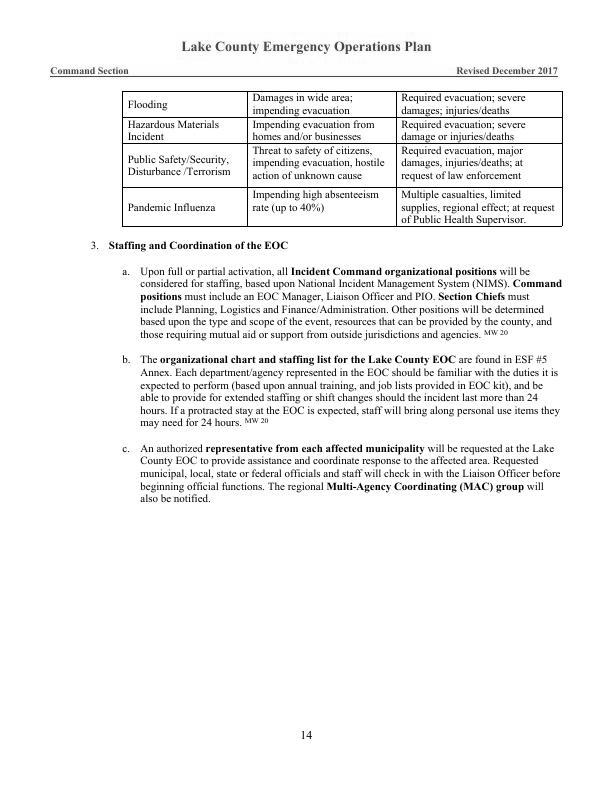table: (118, 85, 567, 232)
text: (117, 352, 571, 433), (119, 263, 569, 344), (116, 441, 566, 507), (176, 35, 433, 60), (88, 239, 295, 254)
